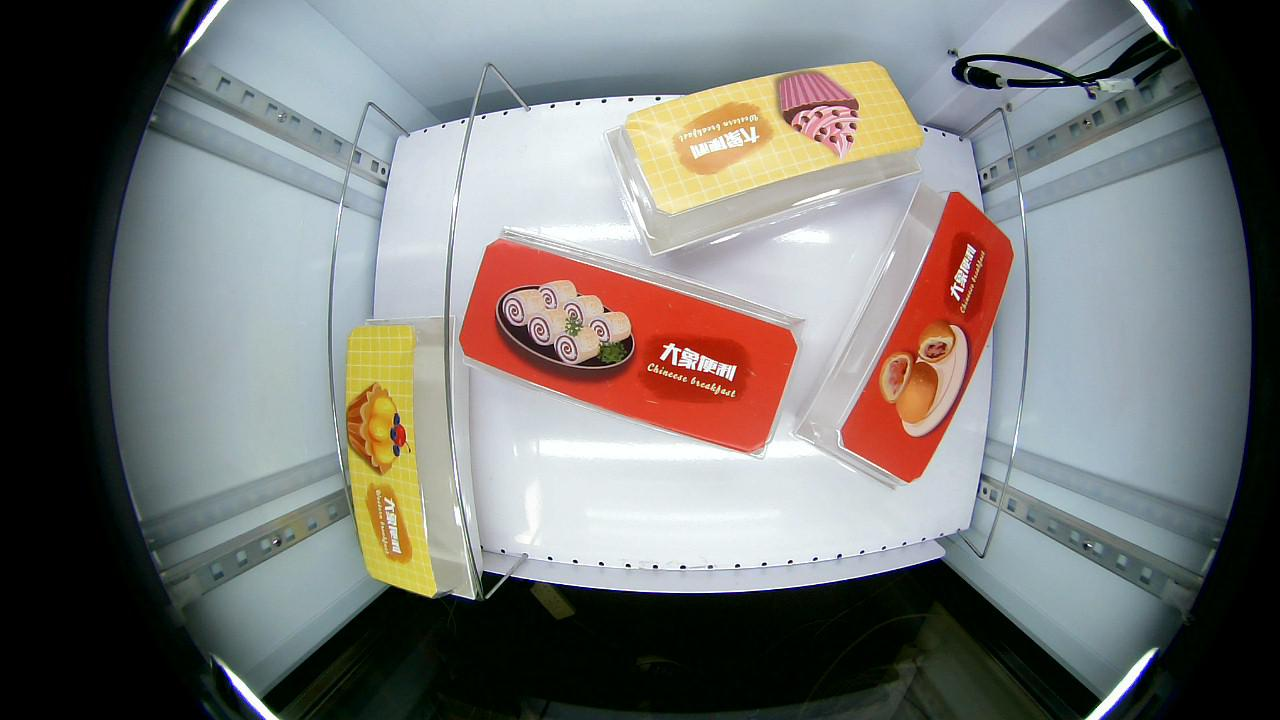goods: (496, 276, 642, 381), (878, 314, 981, 436), (775, 62, 862, 157), (343, 380, 413, 477)
